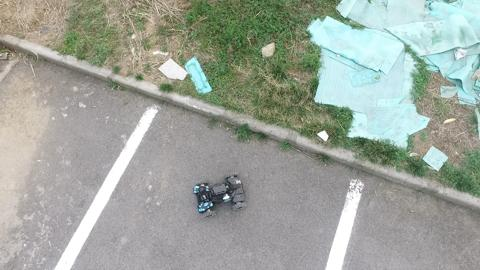chariot: (187, 169, 252, 218)
